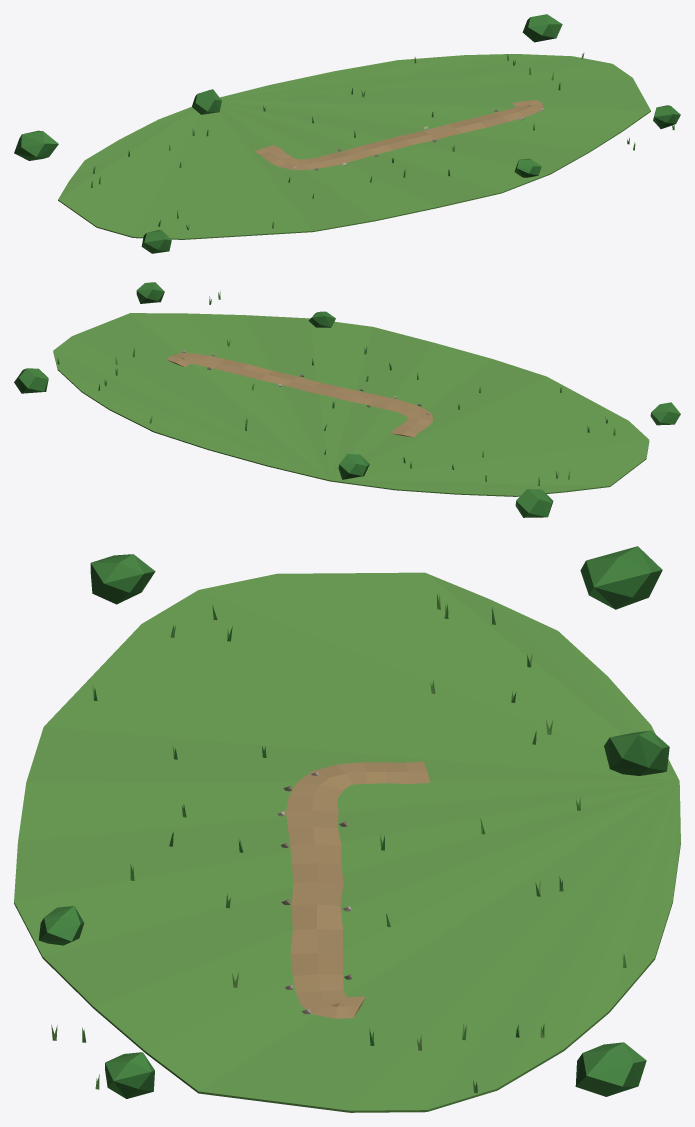
The model's file is hillbase.glb.
3 renders of one model, top to bottom at view 1: azimuth 30°, elevation 25°; view 2: azimuth 150°, elevation 25°; view 3: azimuth 270°, elevation 25°, orthographic. The views are drawn at different scales.
Parts seen in each view (by area): view 1: base; view 2: base; view 3: base.
Boxes of the visible parts, x1,y1,x2,y2 form: base: (14,14,680,253); base: (14,282,680,517); base: (14,546,680,1112).
Bounding box in the file's own units: 6.63 × 0.3115 × 3.47.
